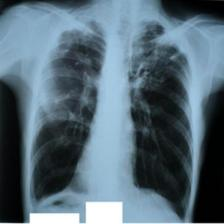tuberculosis: (23, 14, 193, 216)
